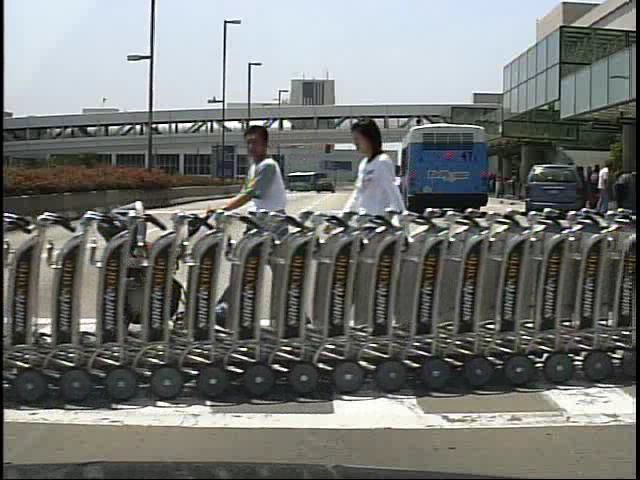person: (217, 121, 303, 351), (345, 117, 413, 348), (596, 161, 617, 211), (587, 163, 603, 215)
